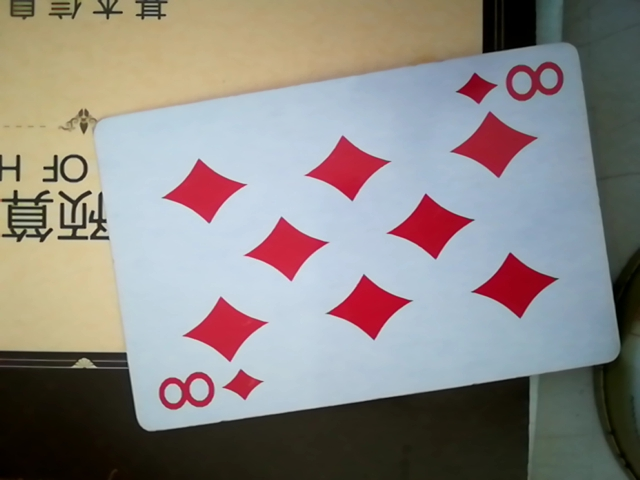fk 8: (93, 49, 614, 433)
